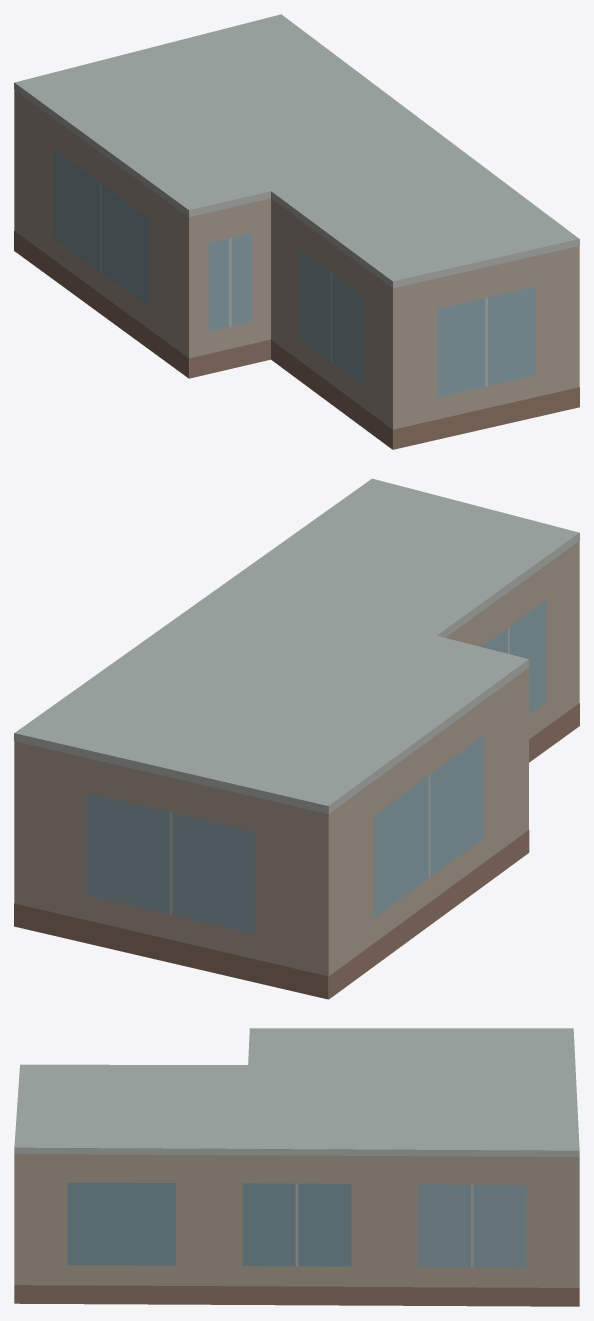
The model's file is survey-upis-32638506.glb.
3 views of the same model, one above another, from view 1: azimuth 30°, elevation 25°; view 2: azimuth 150°, elevation 25°; view 3: azimuth 270°, elevation 25° (orthographic). The views are drawn at different scales.
Visible parts, largest first — view 1: survey-upis-32638506.tmp; view 2: survey-upis-32638506.tmp; view 3: survey-upis-32638506.tmp.
Part boxes in pixels (x1,y1,x2,y2): survey-upis-32638506.tmp: (14,14,579,449); survey-upis-32638506.tmp: (14,478,579,999); survey-upis-32638506.tmp: (14,1028,579,1306).
Size of the model in its own units: 5.14 by 3.05 by 10.03.
